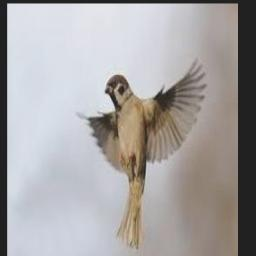Sparrow: (76, 57, 206, 249)
